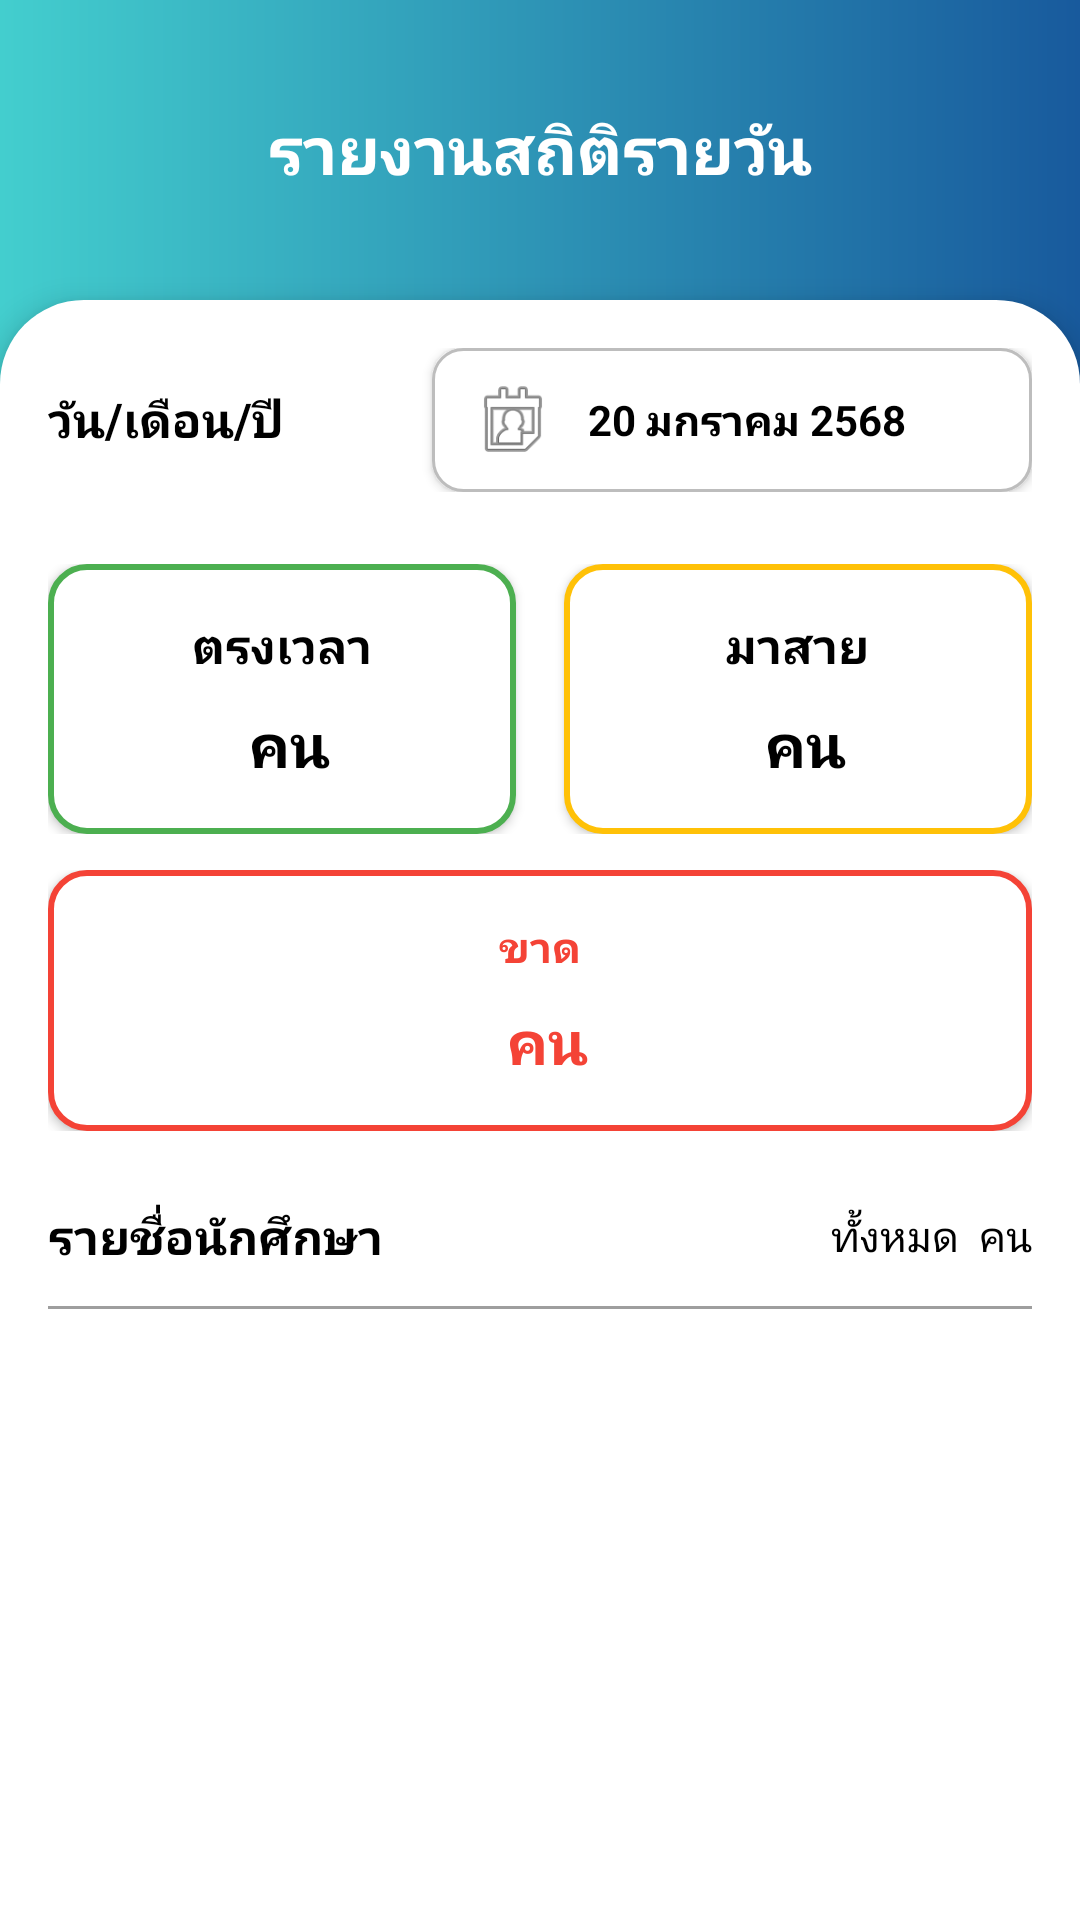

Named icons in this screenshot (1080×1920) and their centers, point (x, y):
calendar: point (513, 419)
